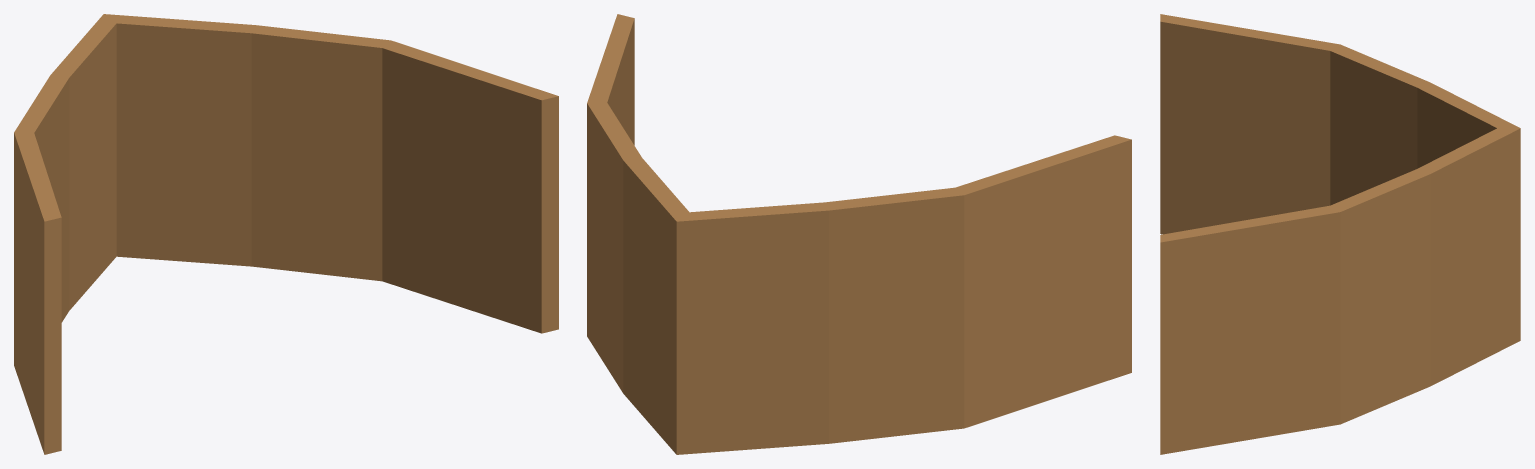
The model's file is MIDDLE_BOW.glb.
3 renders of one model, left to right at view 1: azimuth 30°, elevation 25°; view 2: azimuth 150°, elevation 25°; view 3: azimuth 270°, elevation 25°, orthographic. The views are drawn at different scales.
Size of the model in its own units: 6 by 2.6 by 4.
